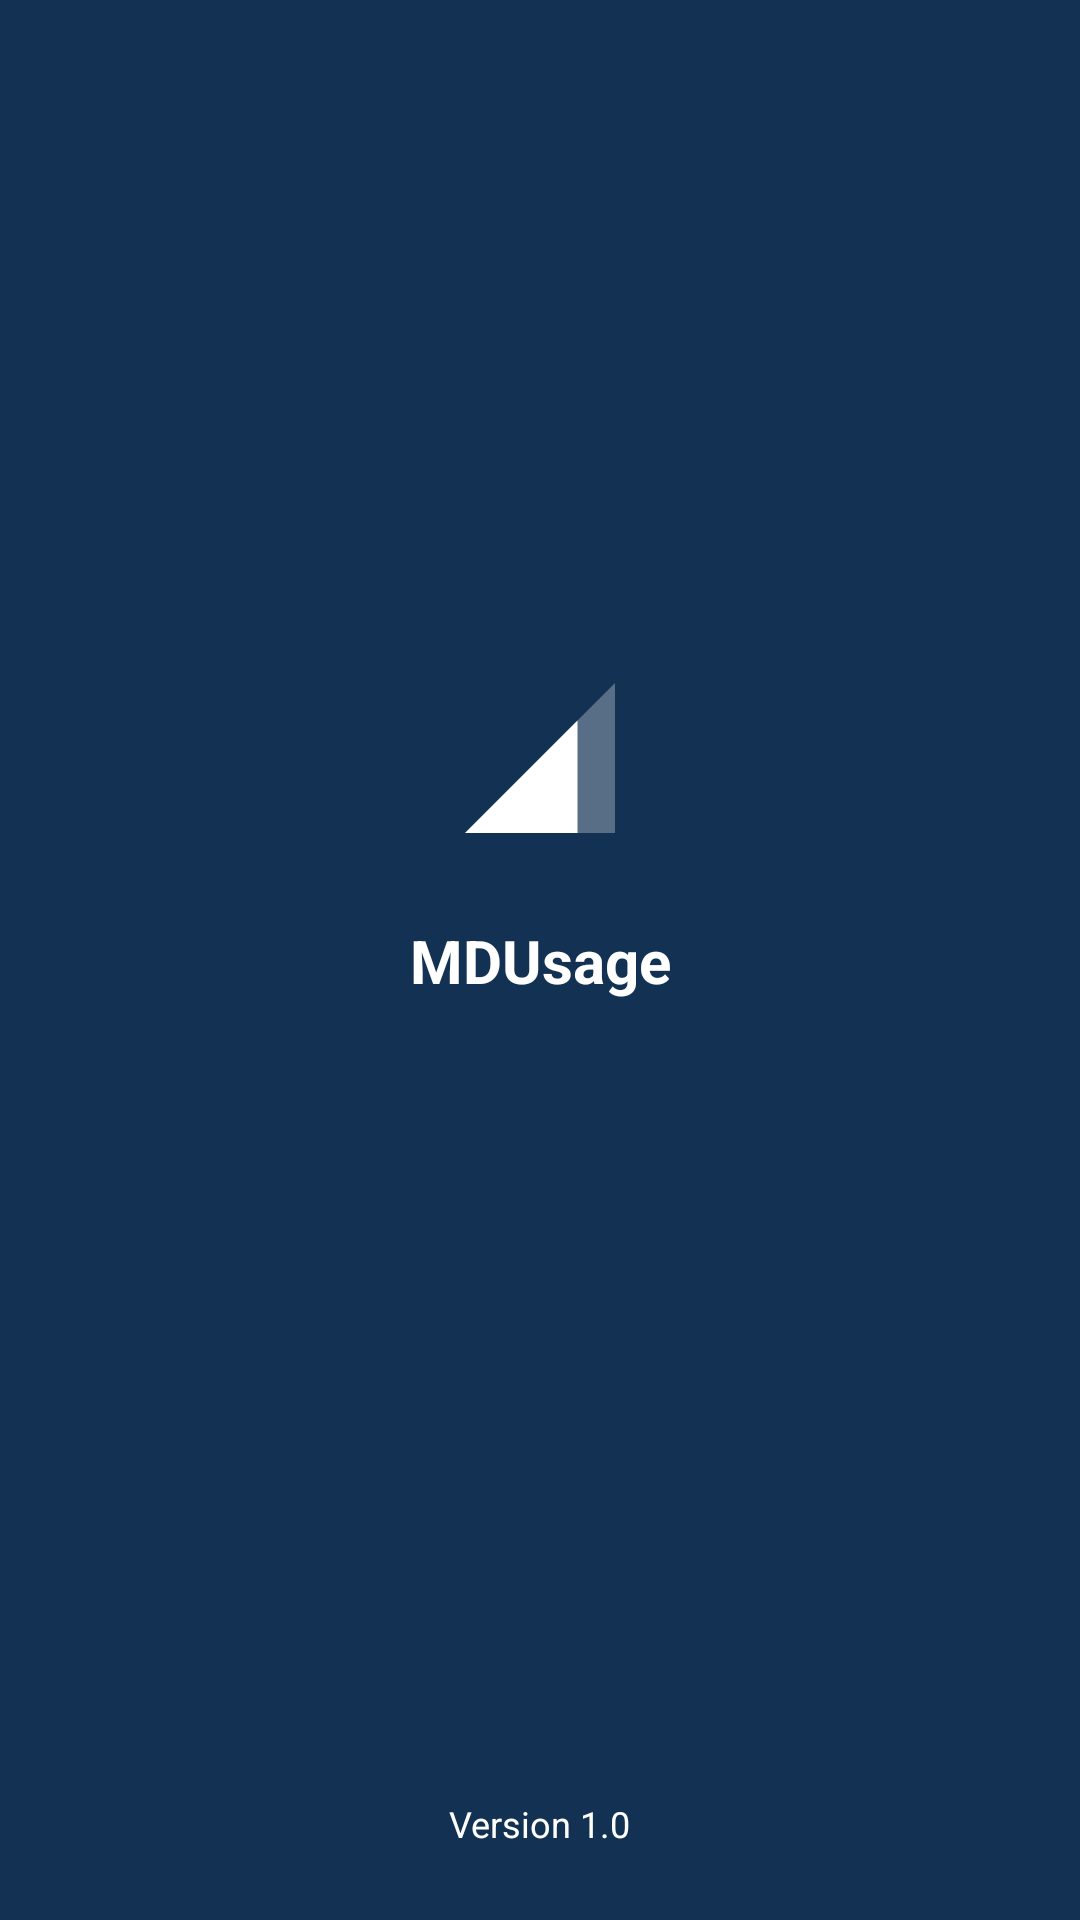

Icon bounding boxes for this 1080px x 1920px phone screenshot, format (x1, y1, x2, y2):
network cell: (465, 683, 615, 833)
